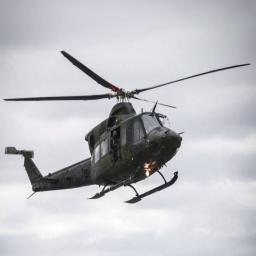helicopter: (4, 51, 252, 204)
